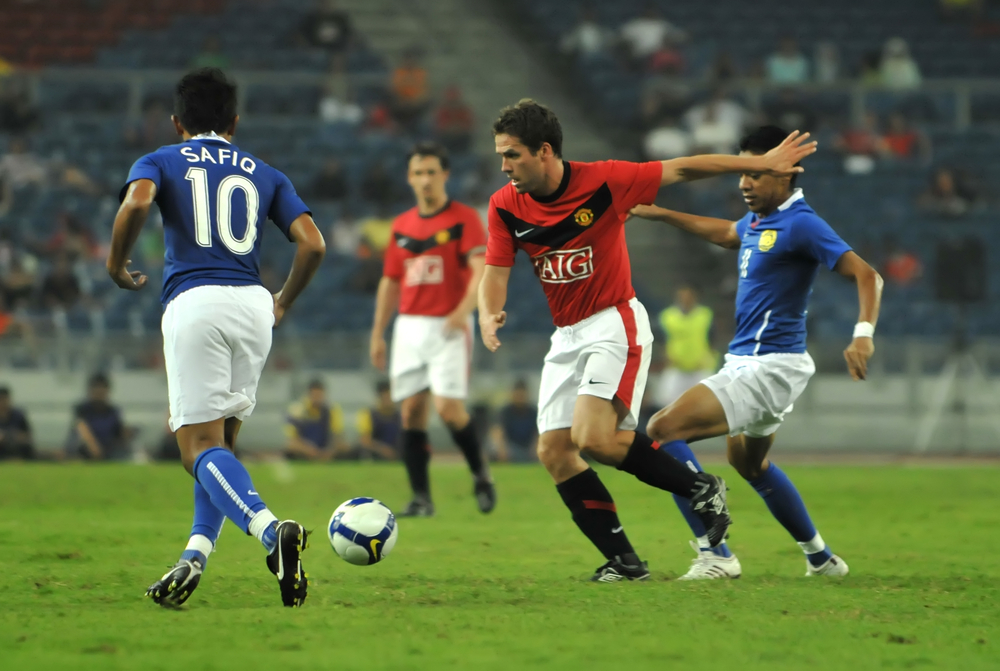soccer player: (100, 63, 334, 615), (625, 104, 886, 586), (472, 93, 729, 576), (362, 138, 509, 517)
soccerball: (324, 495, 405, 572)
